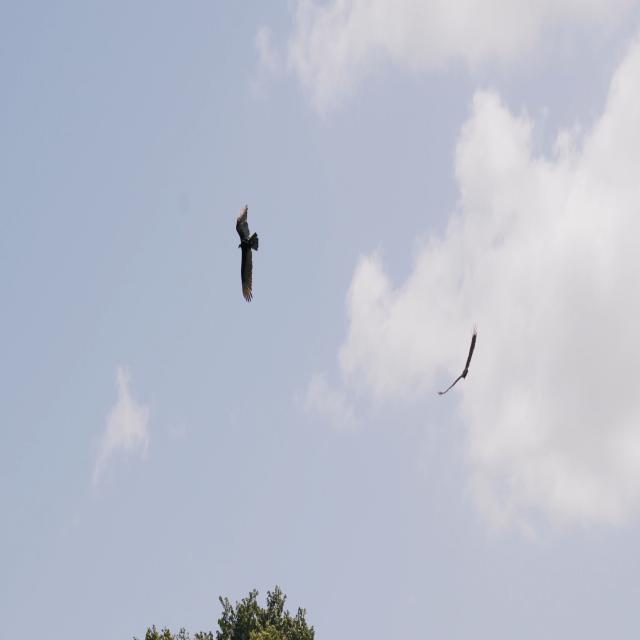bird: (437, 319, 479, 398), (234, 204, 260, 304)
